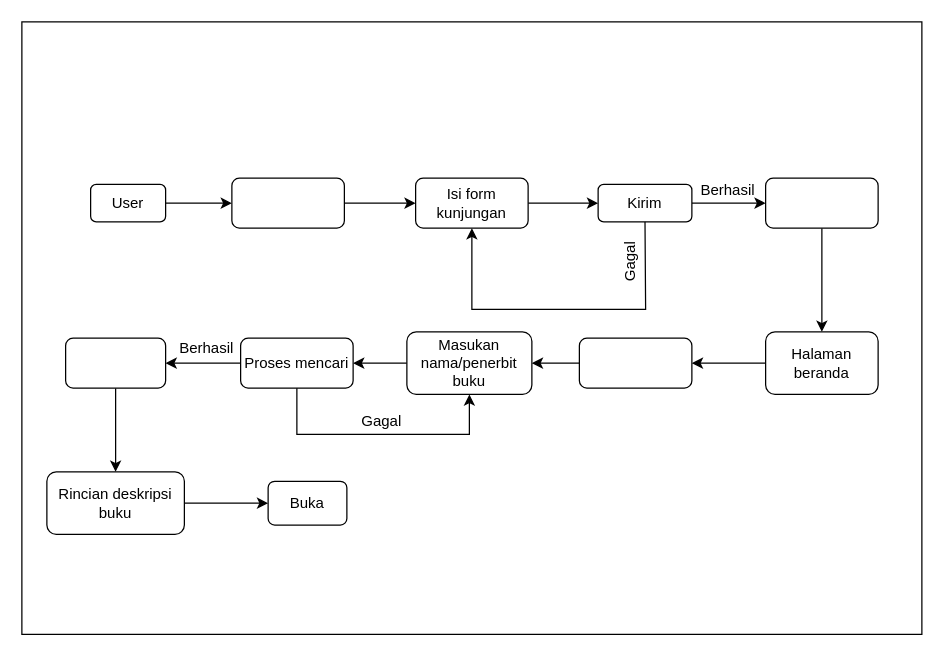
The diagram is 944 pixels wide and 656 high, and some of its shapes have lost their labels. The centre of each missing label's shape, as x and y in pixels:
"Datang ke perpustakaan" belongs at (287,202).
"Pencarian Buku" belongs at (635,362).
"Pencarian muncul" belongs at (115,362).
"Riwayat kunjungan" belongs at (821,202).
